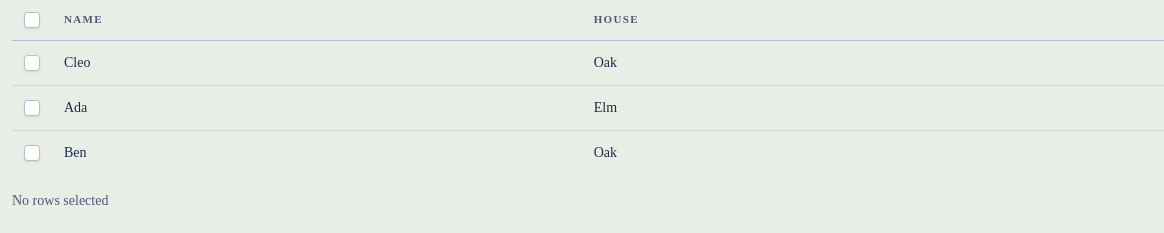
Test: DataTable › Rows › selects rows by click and all filtered rows with the head box
This screenshot has width=1164, height=233.
Click the cell "Ben" at (75, 152), box [52, 130, 582, 174]
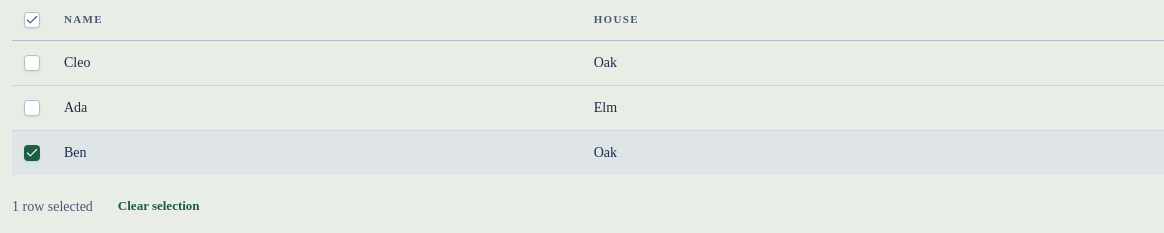
Result: the checkbox named "Select Ben" is checked at [24, 144, 40, 160]
Result: the text "1 row selected" is shown at [12, 196, 93, 216]
Click the checkbox named "Select all rows" at (32, 20), box [24, 12, 40, 28]
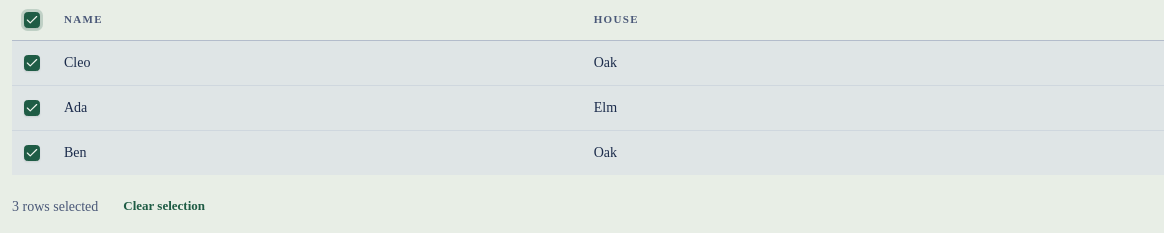
Result: the text "3 rows selected" is shown at [12, 196, 98, 216]
